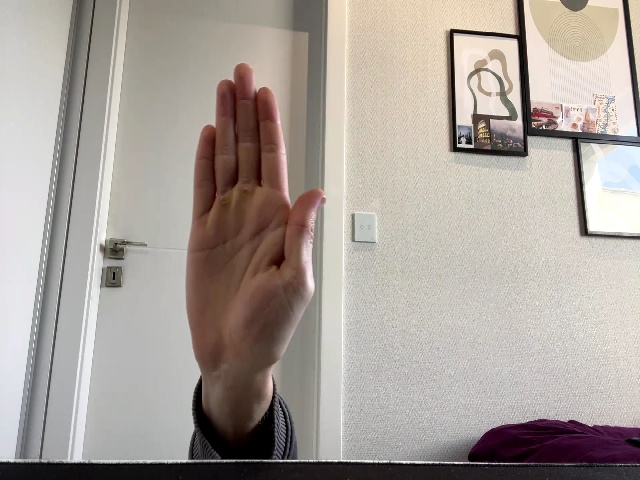B: (186, 64, 327, 371)
